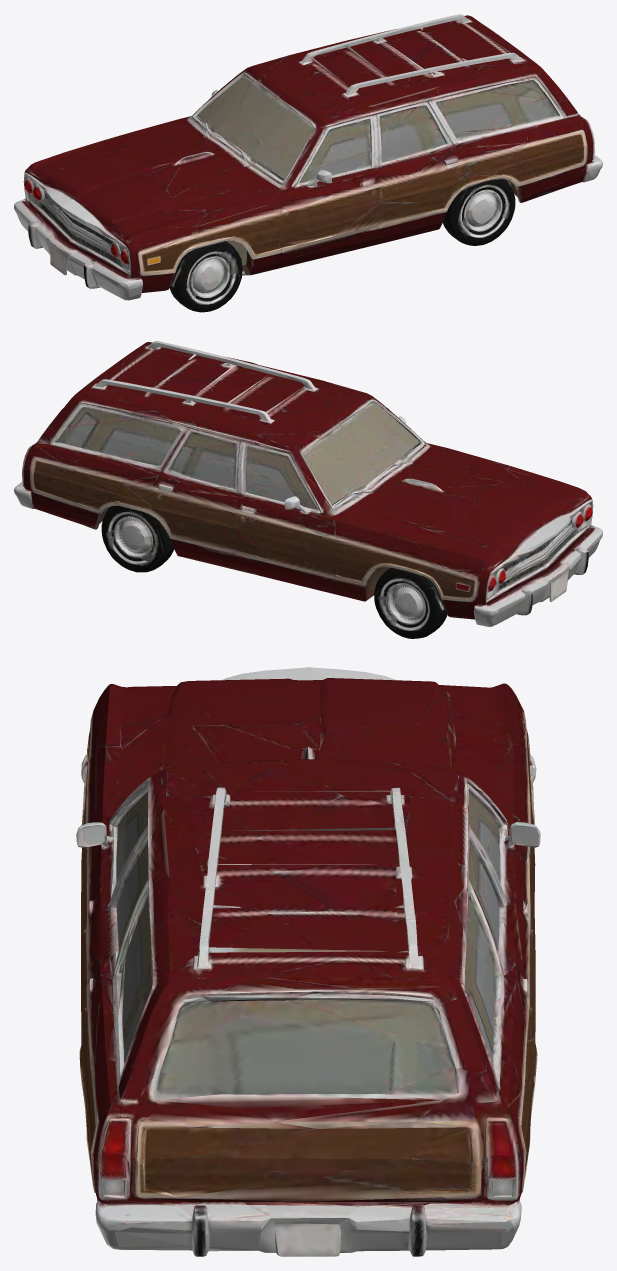
File: car3.glb
The picture shows the model from 3 angles, top to bottom: view 1: azimuth 30°, elevation 25°; view 2: azimuth 150°, elevation 25°; view 3: azimuth 270°, elevation 25°; orthographic projection. The views are drawn at different scales.
Visible parts, largest first — view 1: Mesh_0; view 2: Mesh_0; view 3: Mesh_0.
Boxes of the visible parts, x1,y1,x2,y2 form: Mesh_0: (14,14,602,312); Mesh_0: (14,341,602,638); Mesh_0: (76,667,540,1256).
Size of the model in its own units: 1.89 by 0.5929 by 0.7616.
1 material, 1 textured.
